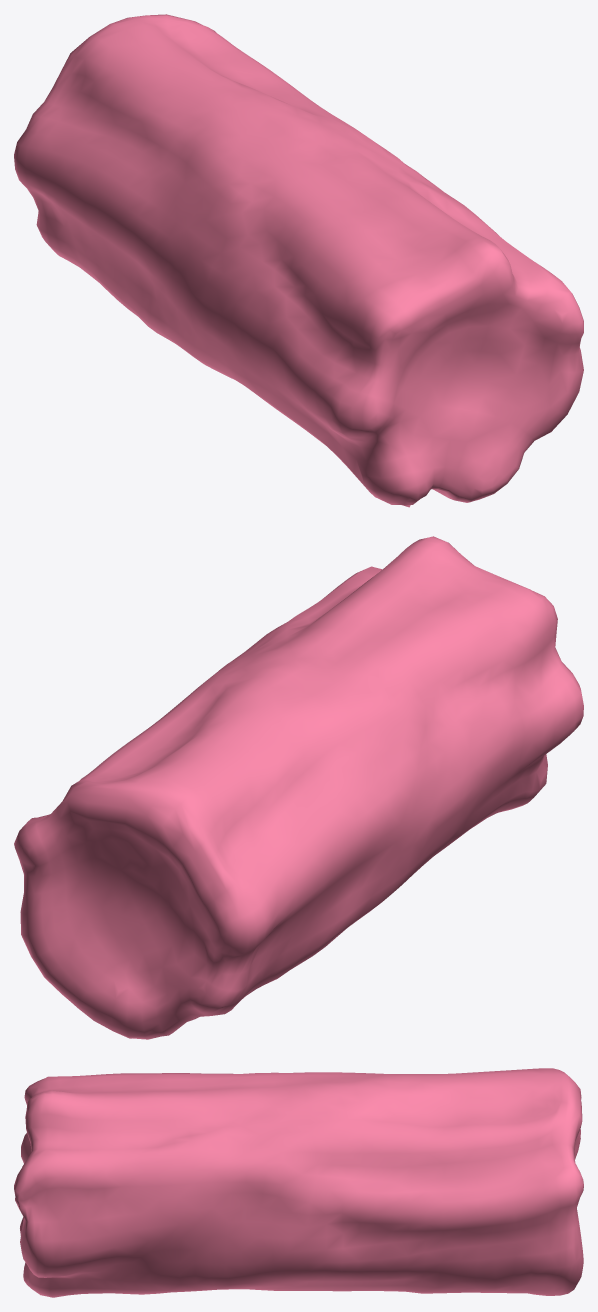
File: organ03.fbx
3 renders of one model, top to bottom at view 1: azimuth 30°, elevation 25°; view 2: azimuth 150°, elevation 25°; view 3: azimuth 270°, elevation 25°, orthographic. The views are drawn at different scales.
Parts seen in each view (by area): view 1: pCylinder1; view 2: pCylinder1; view 3: pCylinder1.
Boxes of the visible parts, x1=… form: pCylinder1: x1=14, y1=14, x2=583, y2=507; pCylinder1: x1=14, y1=536, x2=583, y2=1039; pCylinder1: x1=14, y1=1068, x2=583, y2=1297.
Size of the model in its own units: 2.17 by 2.21 by 5.42.
